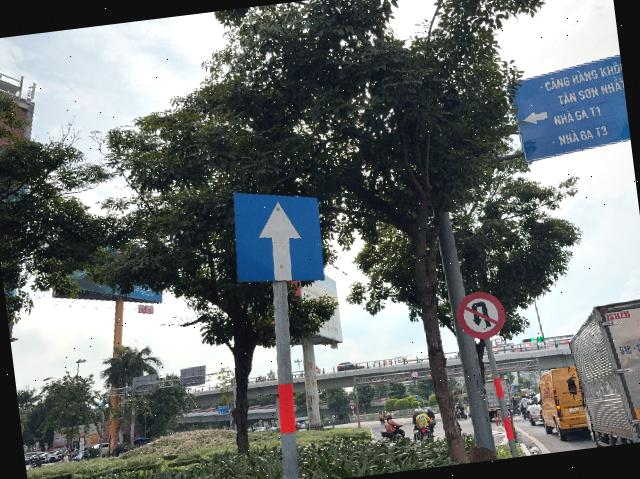cam-quay-dau-xe: (454, 290, 507, 342)
duong-mot-chieu: (225, 182, 328, 291)
